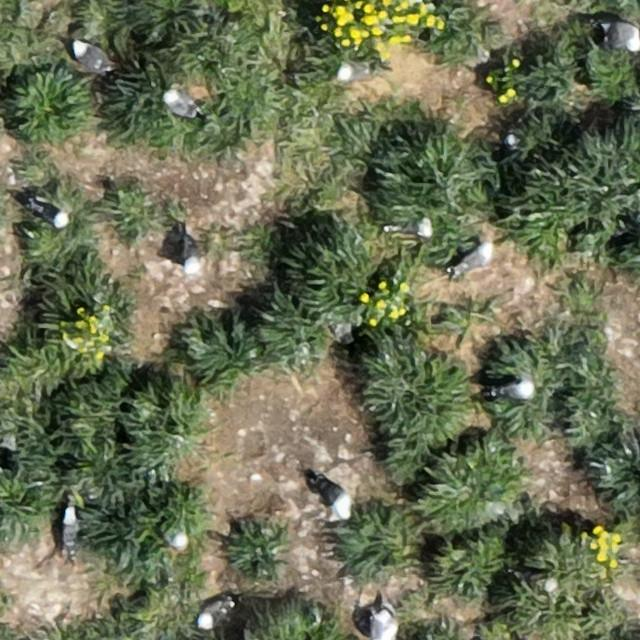umineko: (393, 214, 435, 239), (320, 481, 350, 515), (74, 44, 109, 70), (457, 246, 493, 271), (197, 601, 226, 628), (164, 92, 196, 116), (34, 203, 66, 226), (498, 379, 533, 399), (61, 507, 77, 549), (335, 62, 372, 80), (371, 612, 393, 640), (184, 240, 200, 274)
